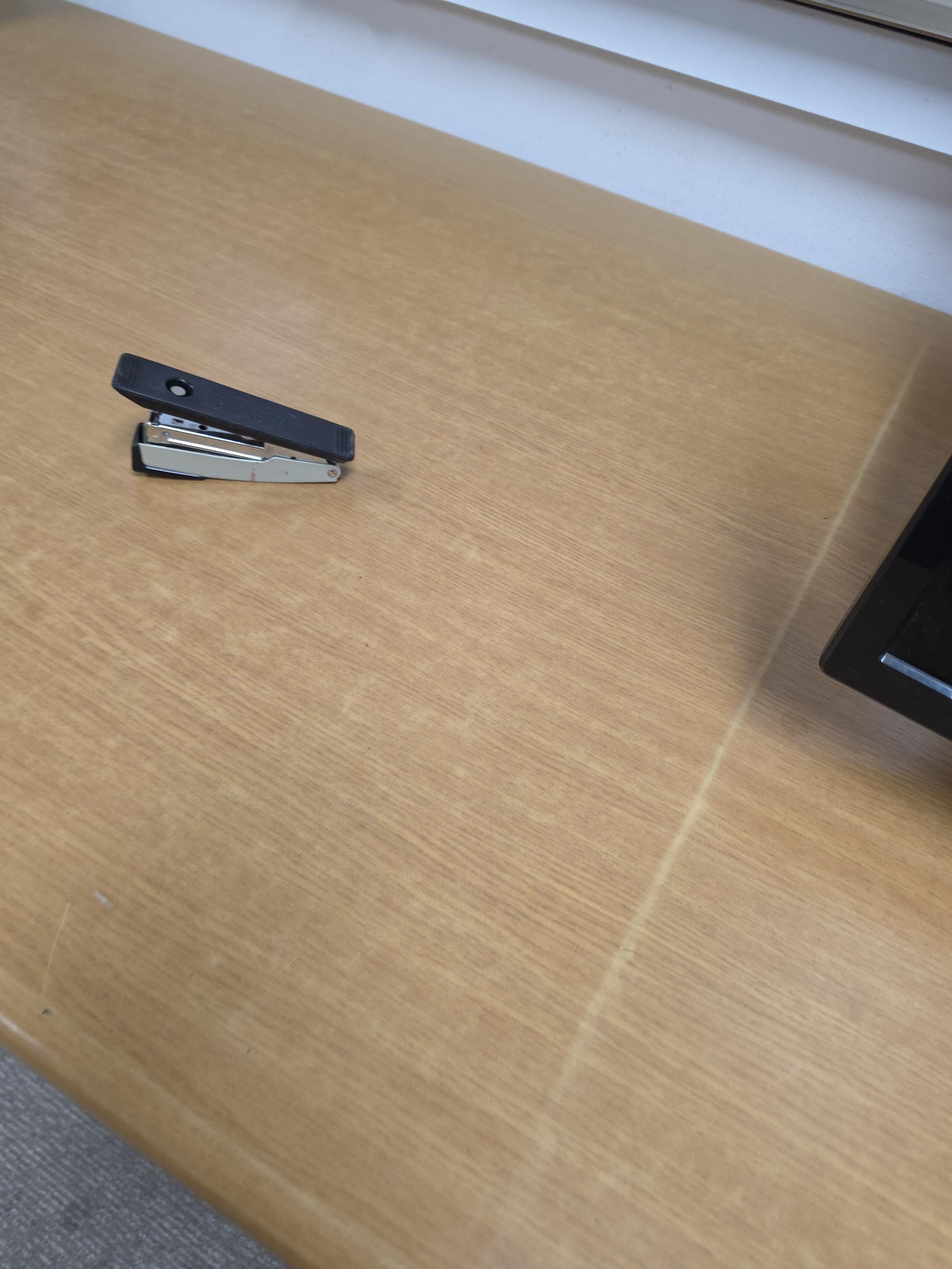stapler: (112, 353, 355, 484)
